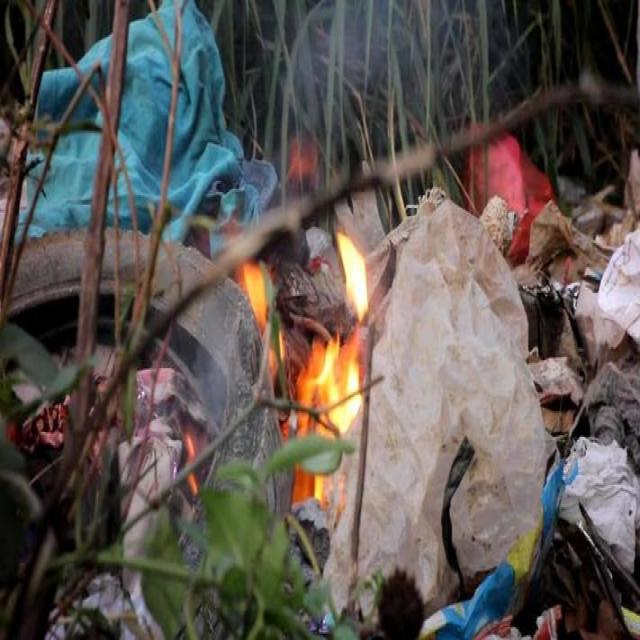fire: (266, 325, 366, 511), (337, 233, 367, 320), (240, 260, 267, 334)
